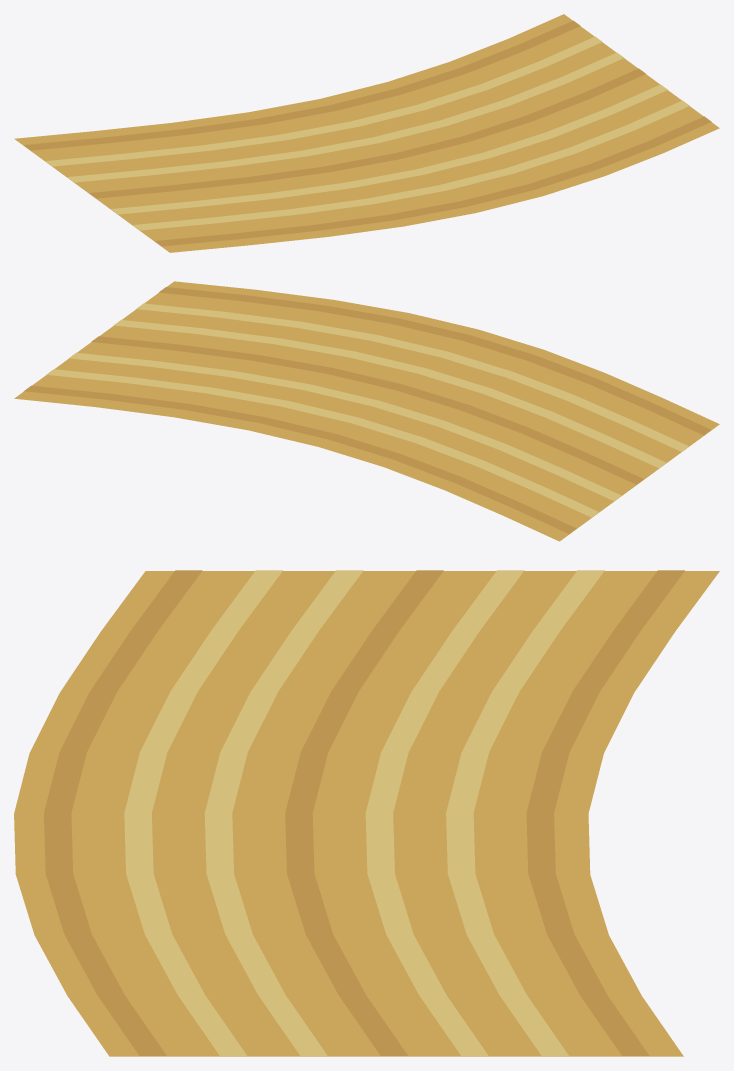
Rendered from Parcelle_1.fbx.
3 renders of one model, top to bottom at view 1: azimuth 30°, elevation 25°; view 2: azimuth 150°, elevation 25°; view 3: azimuth 270°, elevation 25°, orthographic. The views are drawn at different scales.
Visible parts, largest first — view 1: Parcelle_1; view 2: Parcelle_1; view 3: Parcelle_1.
Boxes of the visible parts, x1,y1,x2,y2 form: Parcelle_1: [14, 14, 719, 252]; Parcelle_1: [14, 281, 719, 541]; Parcelle_1: [14, 570, 719, 1056].
Size of the model in its own units: 2200 by 1.7 by 1352.
1 material, 1 textured.
